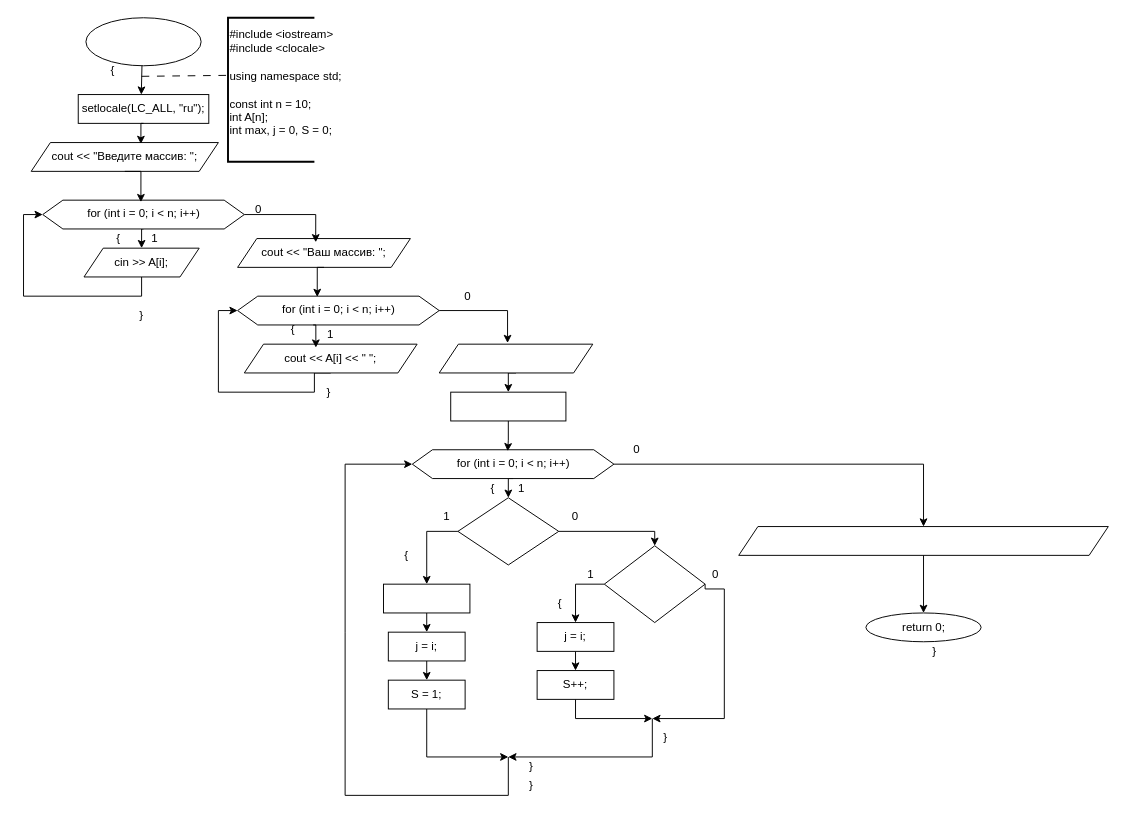
This 1125x820 diagram has some shape labels left out. Each missing label, with the box of its shape:
cout << endl;: (438, 343, 593, 373)
cout << max << endl << j << endl << j + 1 << endl << S << endl;: (738, 526, 1108, 555)
if (A[i] == max): (603, 545, 705, 623)
if (A[i] > max): (457, 497, 559, 565)
int main(): (85, 17, 201, 66)
max = A[0];: (450, 391, 566, 421)
max = A[i];: (383, 583, 470, 613)
